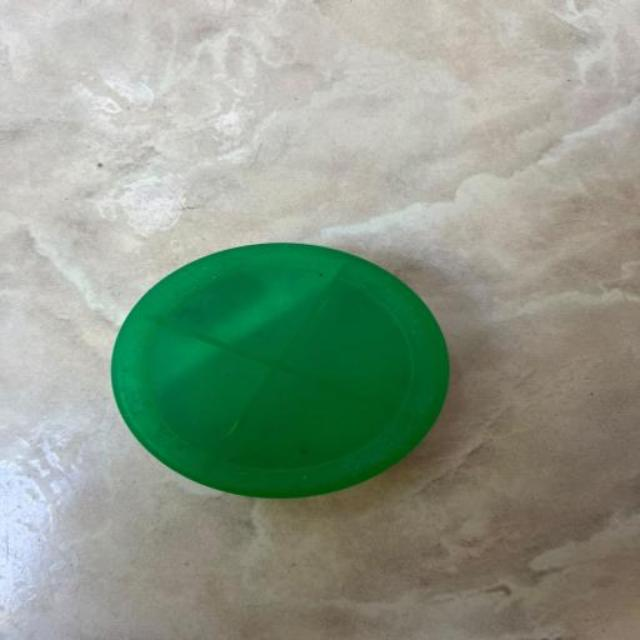HDPE: (61, 230, 494, 510)
